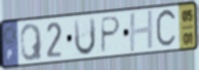2: (45, 21, 64, 60)
C: (154, 7, 178, 52)
H: (128, 9, 155, 54)
P: (99, 15, 122, 55)
Q: (19, 22, 44, 63)
U: (72, 15, 97, 58)
